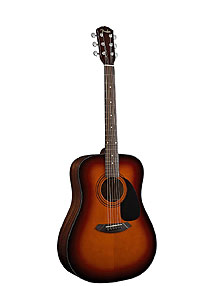guitar: (57, 24, 158, 283)
